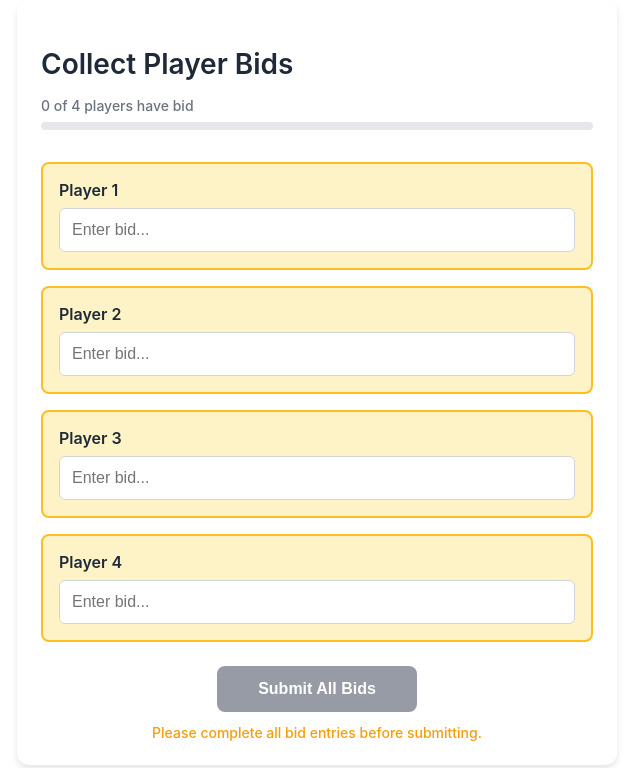
Test: BidCollection › enables submit button when all bids are complete
Type "1" into the number field with placeholder "Enter bid..." below "Player 1" at {"x": 317, "y": 230}, box [59,208,575,252]
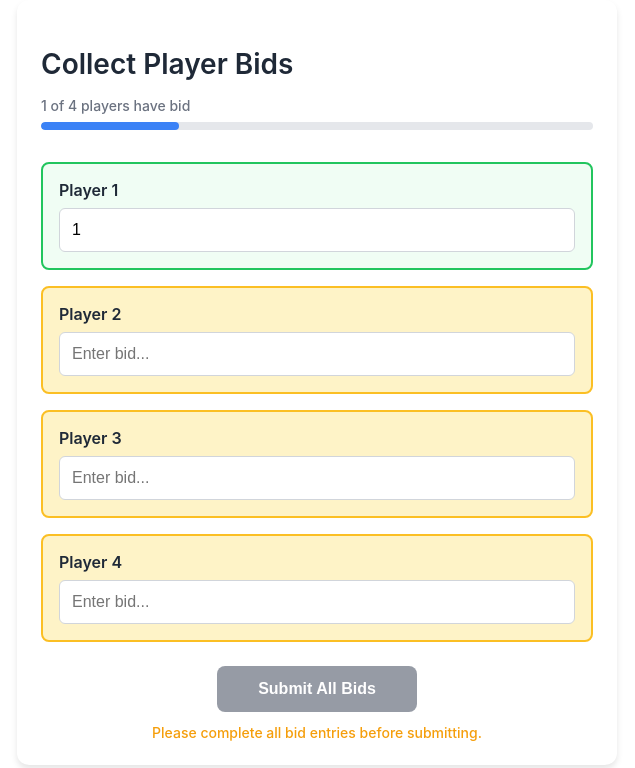
Type "2" into the number field with placeholder "Enter bid..." below "Player 2" at {"x": 317, "y": 354}, box [59,332,575,376]
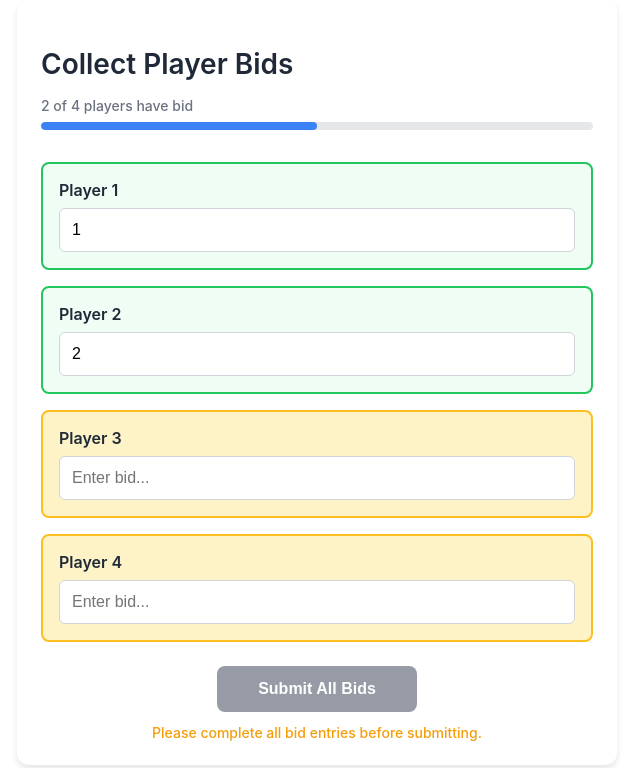
Type "3" into the number field with placeholder "Enter bid..." below "Player 3" at {"x": 317, "y": 478}, box [59,456,575,500]
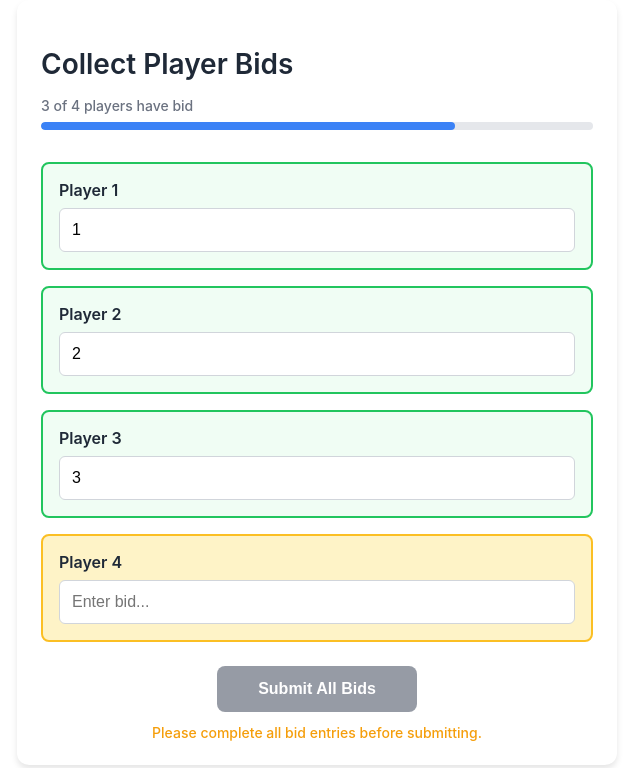
Type "4" into the number field with placeholder "Enter bid..." at {"x": 317, "y": 602}, box [59,580,575,624]
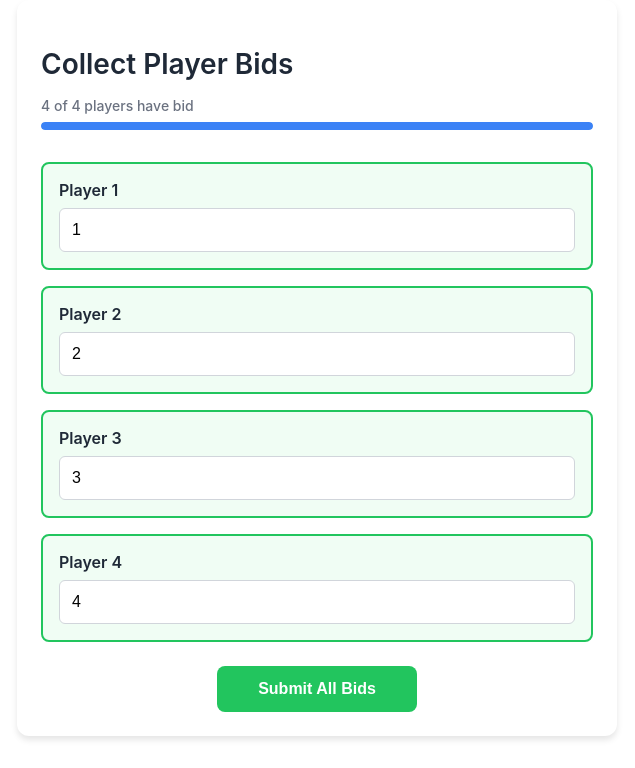
Expected: the button "Submit All Bids" is enabled, [217,666,417,712]
